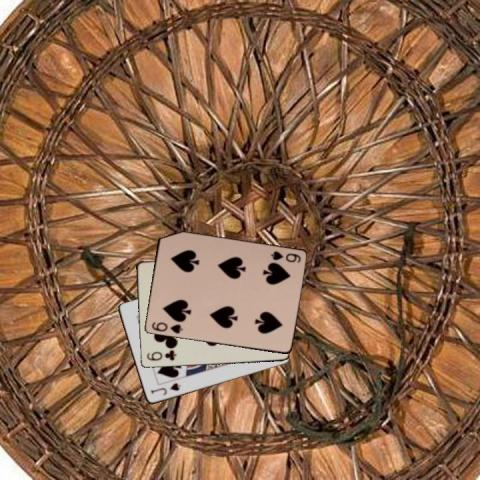6c: (144, 348, 177, 362)
6s: (149, 319, 184, 336), (267, 248, 302, 264)
Js: (147, 380, 182, 397)
